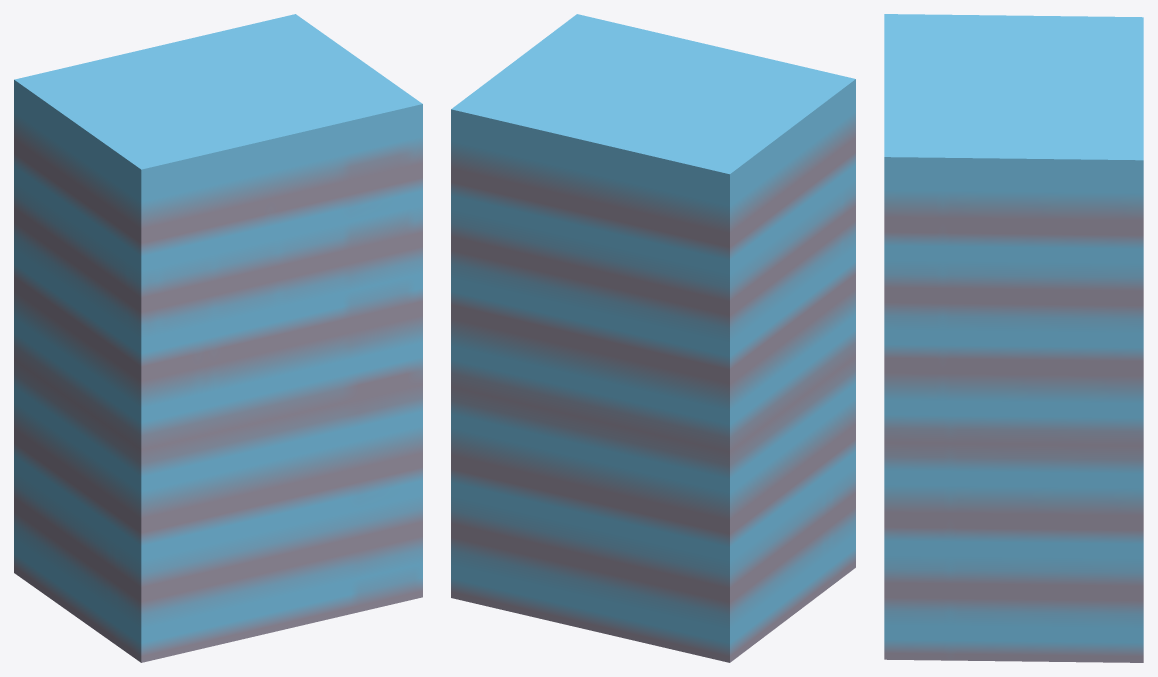
Rendered from GlassBuilding_1_Mesh.fbx.
3 renders of one model, left to right at view 1: azimuth 30°, elevation 25°; view 2: azimuth 150°, elevation 25°; view 3: azimuth 270°, elevation 25°, orthographic. The views are drawn at different scales.
Visible parts, largest first — view 1: Cube; view 2: Cube; view 3: Cube.
Part boxes in pixels (x1,y1,x2,y2): Cube: (14,14,422,662); Cube: (451,14,855,662); Cube: (884,14,1143,662).
Size of the model in its own units: 769 by 1305 by 602.
